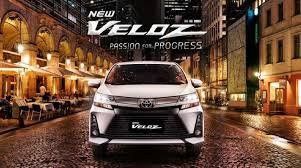mobil: (89, 61, 207, 152)
